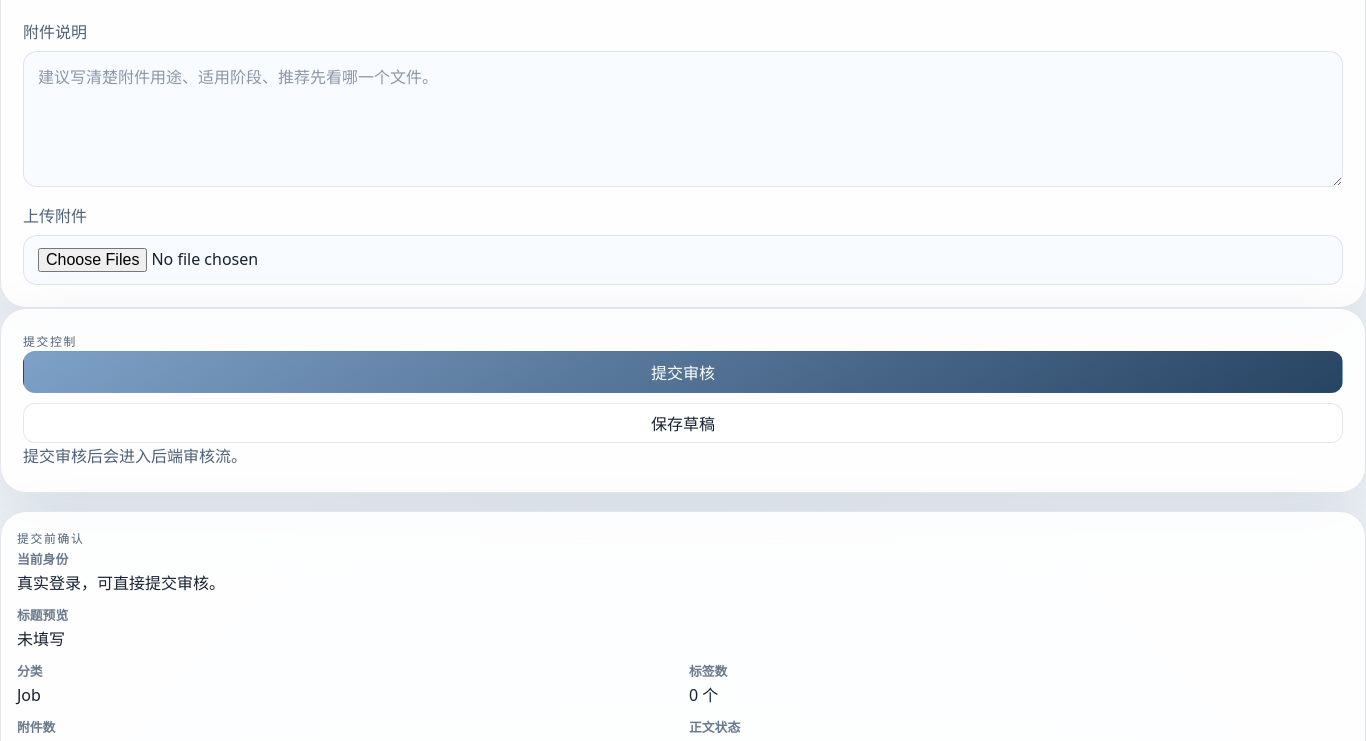
Test: CommunityComposerPage › shows submit validation errors in a dialog instead of an inline error strip
(page scrolled)
Click the button "提交审核" at (683, 372), box [23, 351, 1343, 393]
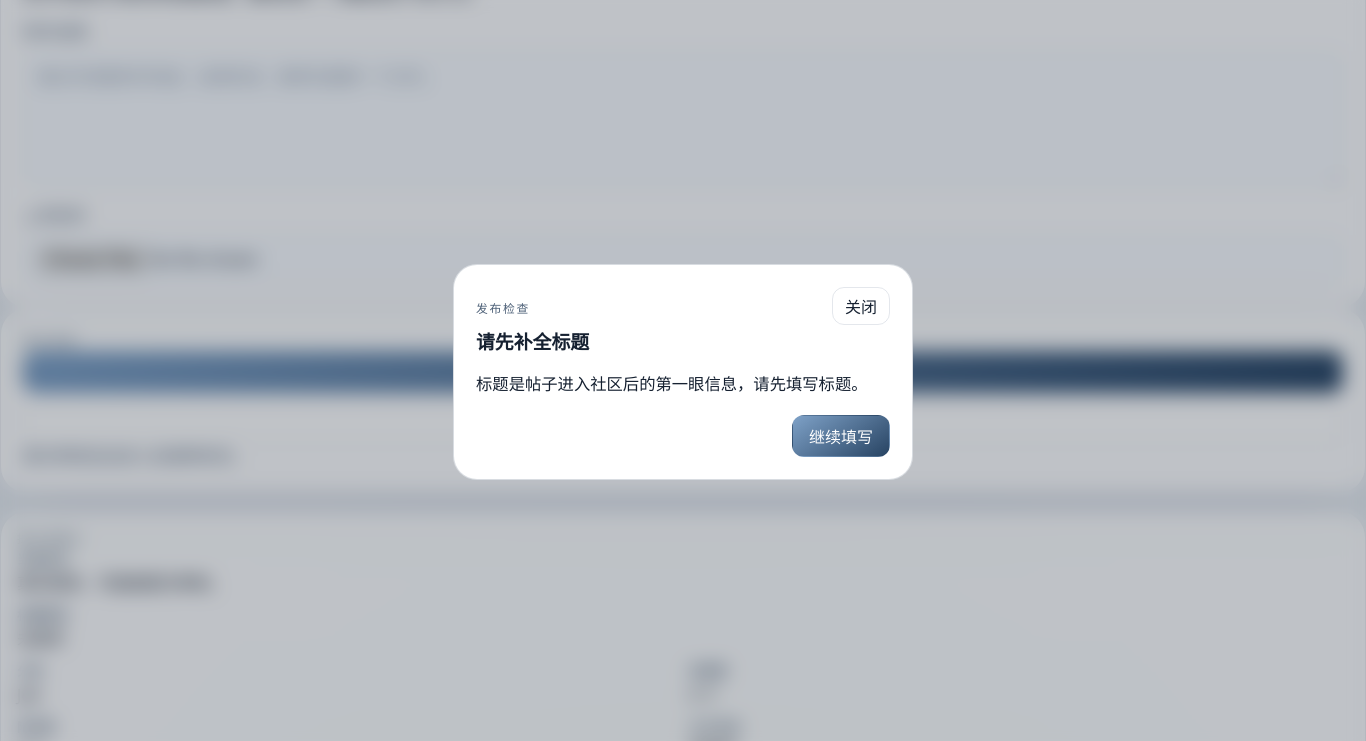
Expected: the dialog is shown, [453, 264, 913, 480]
